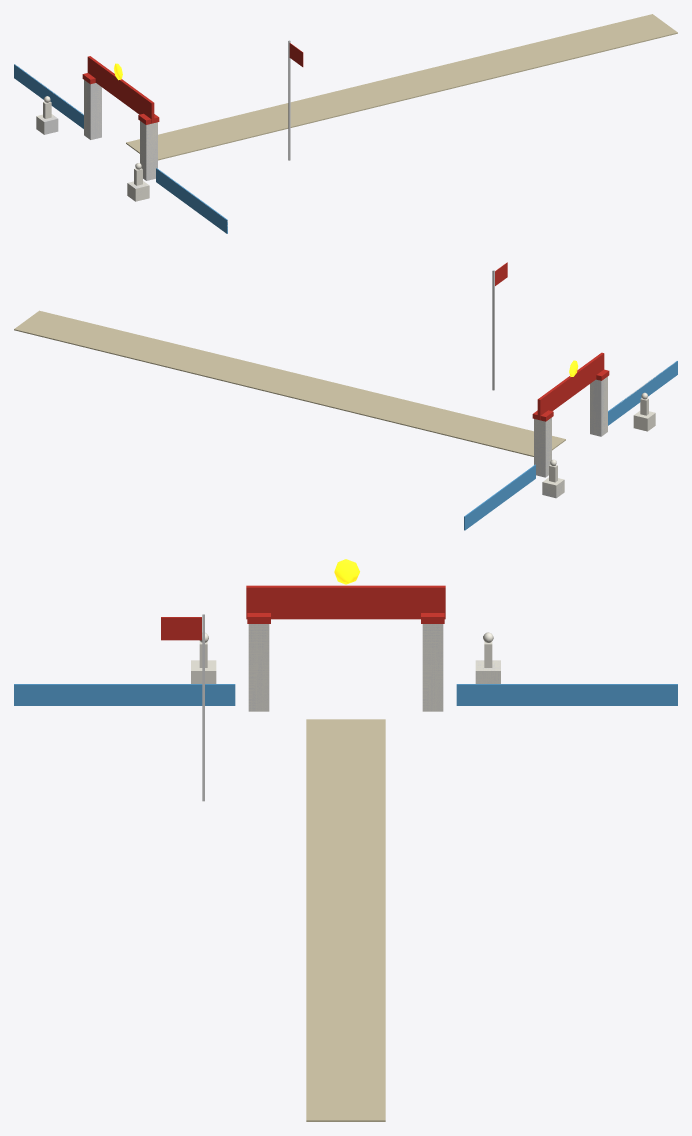
The model's file is leto-camp.glb.
3 renders of one model, top to bottom at view 1: azimuth 30°, elevation 25°; view 2: azimuth 150°, elevation 25°; view 3: azimuth 270°, elevation 25°, orthographic. The views are drawn at different scales.
Visible parts, largest first — view 1: 04_#d9cfae_noshadow, 01_#5fb0e8_noshadow, 06_#d8362b_noshadow, 07_#f4f1e6, solid.005, 02_#f4f1e6_r320, solid.006, solid.004; view 2: 04_#d9cfae_noshadow, 01_#5fb0e8_noshadow, 06_#d8362b_noshadow, 07_#f4f1e6, 02_#f4f1e6_r320, solid.005, solid.006; view 3: 04_#d9cfae_noshadow, 01_#5fb0e8_noshadow, 06_#d8362b_noshadow, 07_#f4f1e6, 02_#f4f1e6_r320, solid.006, solid.005.
Boxes of the visible parts, x1,y1,x2,y2 form: 04_#d9cfae_noshadow: [126, 14, 677, 160]; 01_#5fb0e8_noshadow: [14, 64, 227, 233]; 06_#d8362b_noshadow: [87, 43, 303, 123]; 07_#f4f1e6: [84, 80, 157, 179]; solid.005: [84, 82, 101, 139]; 02_#f4f1e6_r320: [36, 101, 149, 201]; solid.006: [140, 122, 157, 180]; solid.004: [288, 40, 290, 160]; 04_#d9cfae_noshadow: [14, 310, 565, 456]; 01_#5fb0e8_noshadow: [464, 361, 677, 530]; 06_#d8362b_noshadow: [495, 262, 604, 419]; 07_#f4f1e6: [534, 376, 607, 477]; 02_#f4f1e6_r320: [542, 398, 655, 497]; solid.005: [534, 418, 551, 477]; solid.006: [590, 378, 606, 436]; 04_#d9cfae_noshadow: [306, 719, 385, 1121]; 01_#5fb0e8_noshadow: [14, 684, 677, 705]; 06_#d8362b_noshadow: [161, 585, 445, 640]; 07_#f4f1e6: [248, 624, 443, 711]; 02_#f4f1e6_r320: [191, 641, 500, 683]; solid.006: [248, 624, 269, 711]; solid.005: [422, 624, 443, 711].
Size of the model in its own units: 66 by 13.04 by 42.
